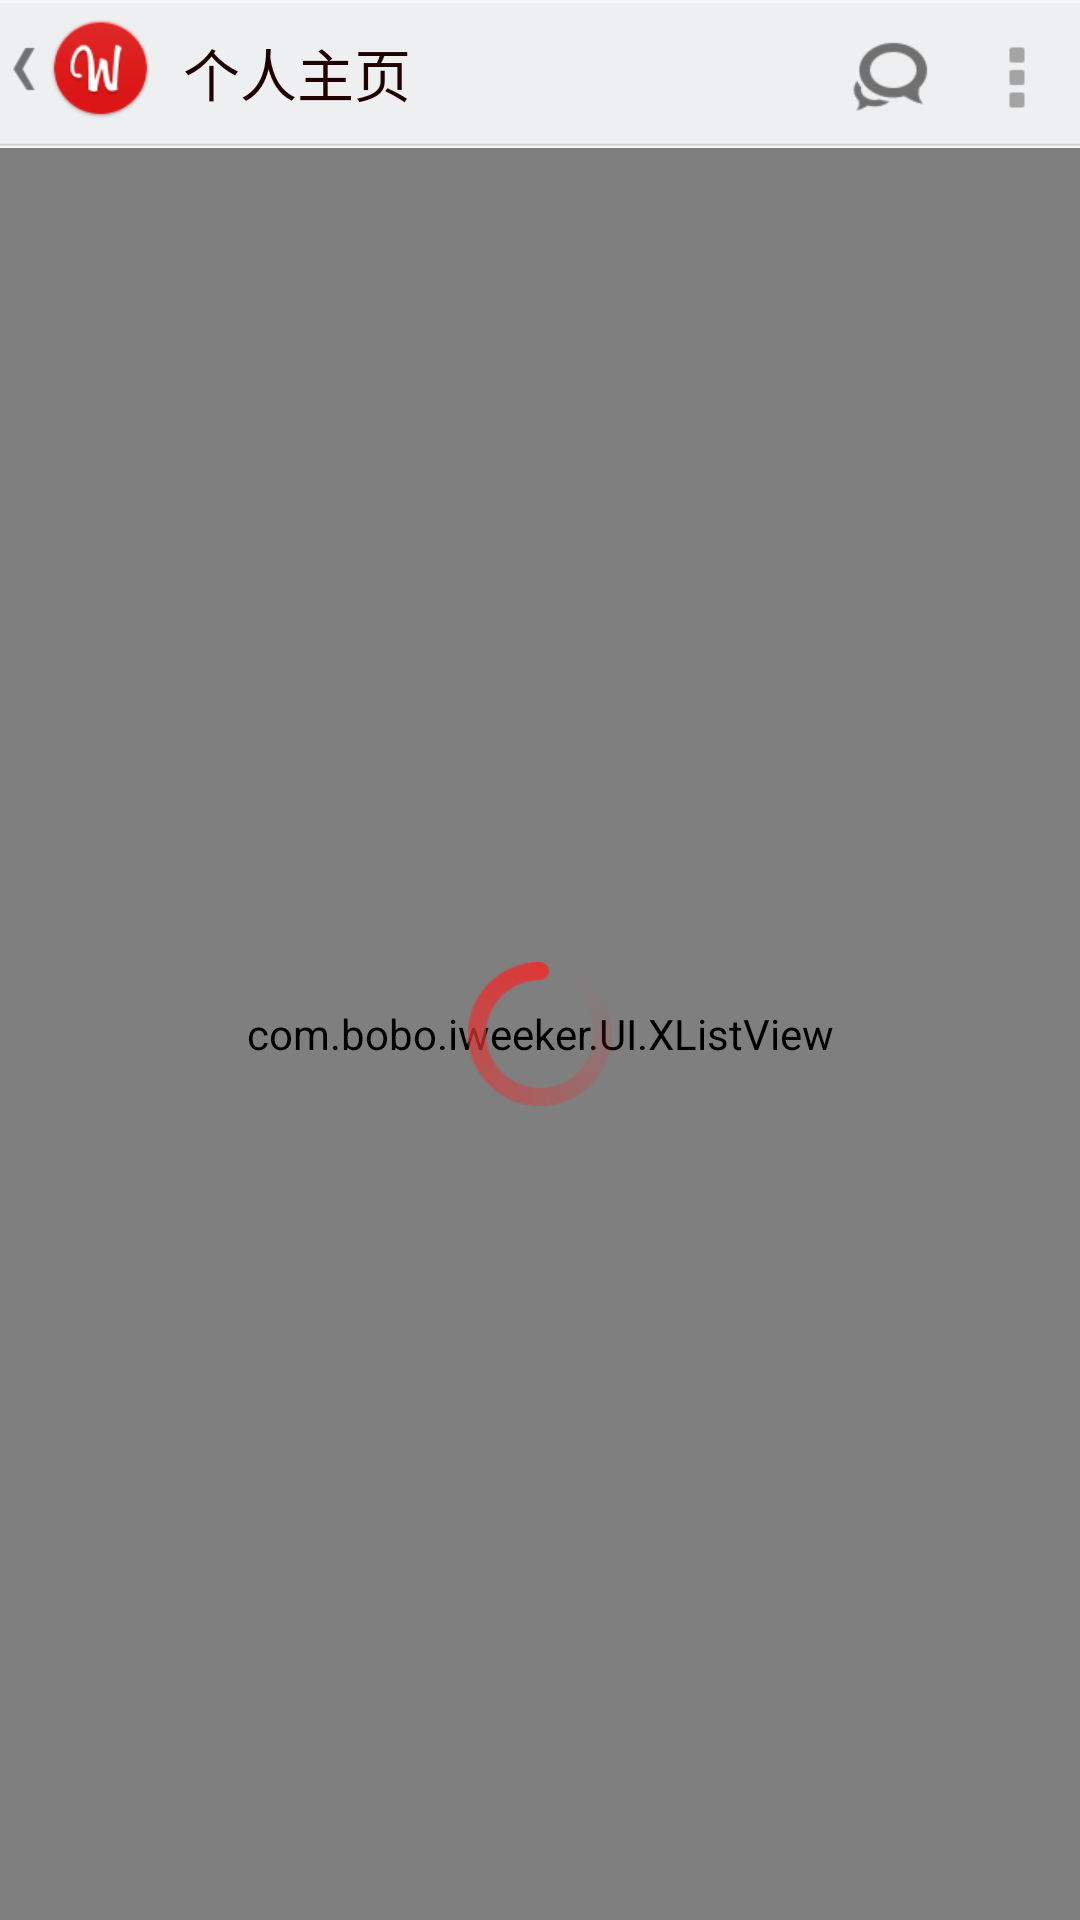

Locate icon controls on the screen. Image size 1080 × 1920, boxes as region(x1, y1, x2, y2).
activity back: region(13, 48, 35, 90)
comment: region(853, 43, 927, 111)
profile more: region(1009, 47, 1025, 108)
